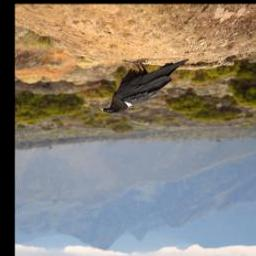Crow: (100, 56, 192, 116)
